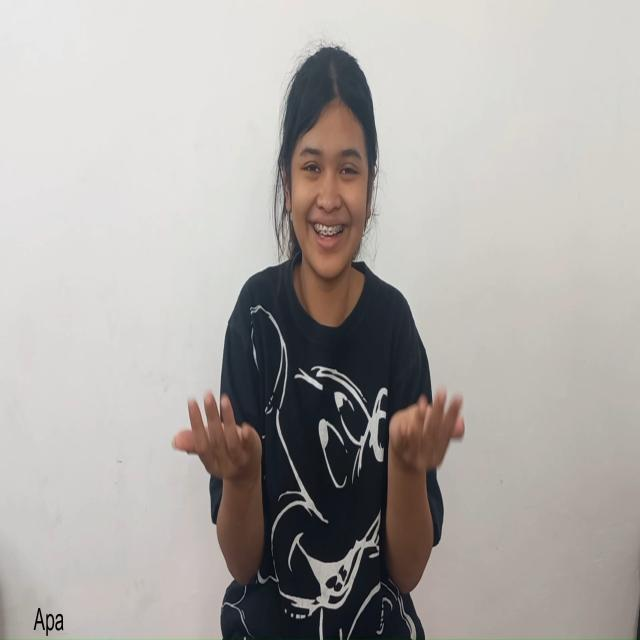Apa -BISINDO-: (169, 382, 470, 597)
